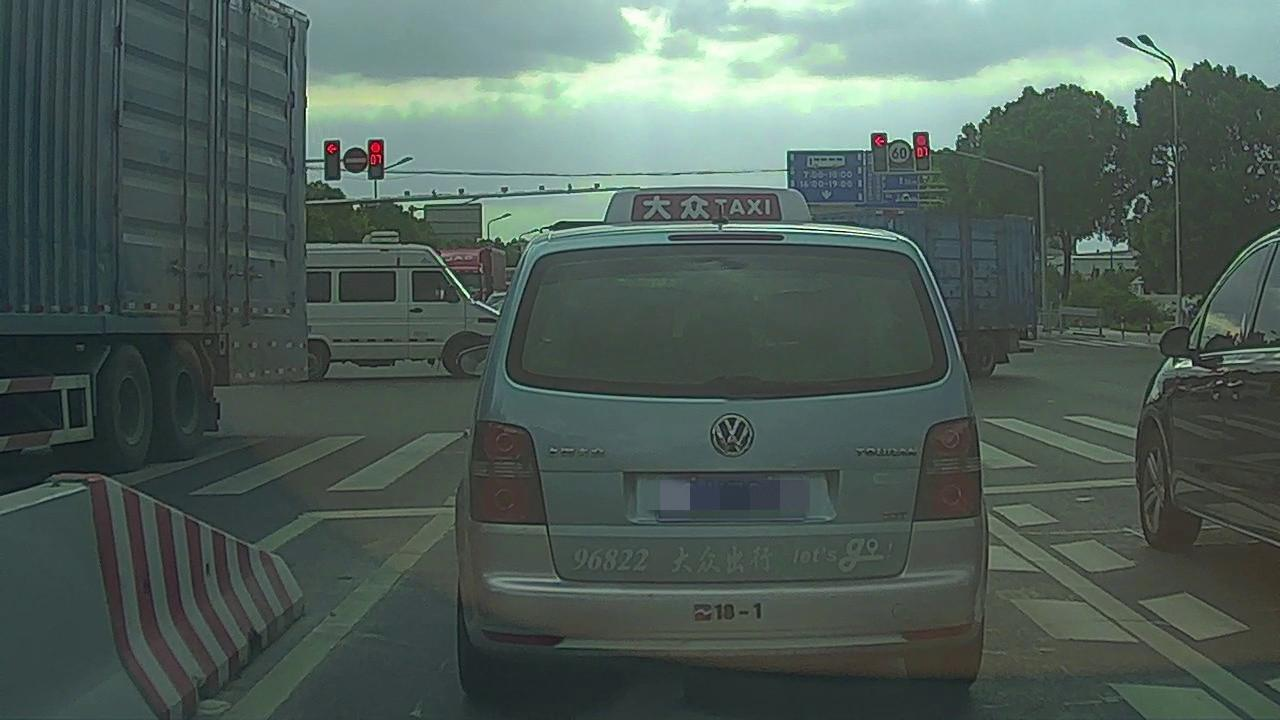traffic_light: (325, 140, 340, 181), (916, 133, 931, 173), (872, 134, 888, 171), (369, 139, 383, 179)
